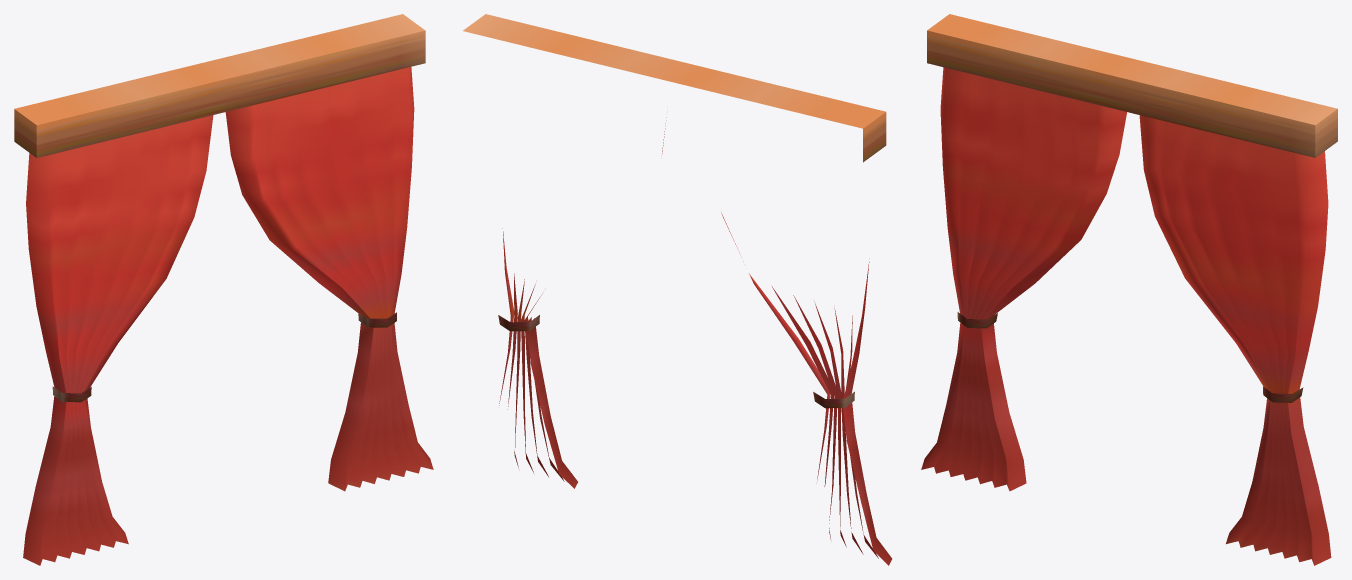
The picture shows the model from 3 angles, left to right: view 1: azimuth 30°, elevation 25°; view 2: azimuth 150°, elevation 25°; view 3: azimuth 330°, elevation 25°; orthographic projection. The views are drawn at different scales.
Parts seen in each view (by area): view 1: VelvetWallCurtainsOpen; view 2: VelvetWallCurtainsOpen; view 3: VelvetWallCurtainsOpen.
Boxes of the visible parts, x1,y1,x2,y2 form: VelvetWallCurtainsOpen: (14,14,433,565); VelvetWallCurtainsOpen: (463,14,892,565); VelvetWallCurtainsOpen: (921,14,1337,565).
Size of what is drawn, in the model's own units: 2.58 by 2.64 by 0.299.
Materials: 1 (1 with a texture image).
